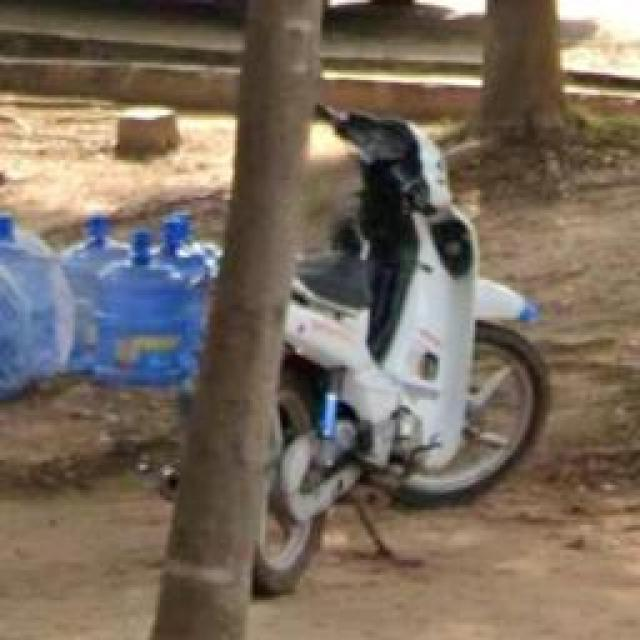motorcycle: (223, 92, 555, 592)
